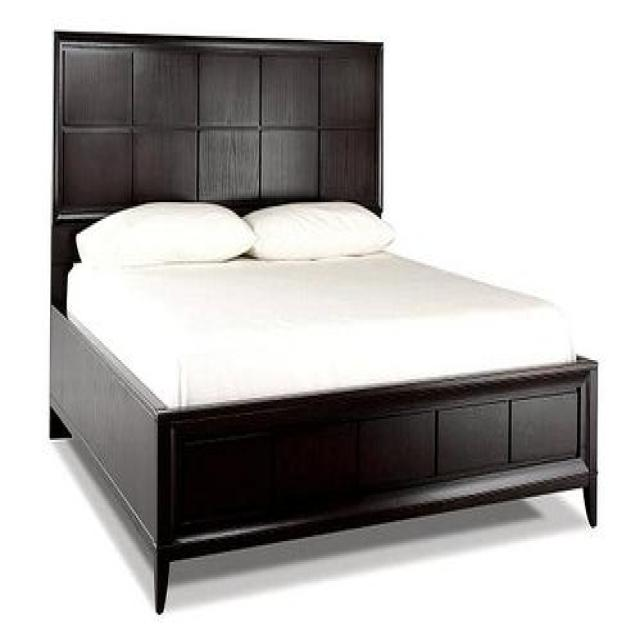bed: (49, 27, 599, 615)
